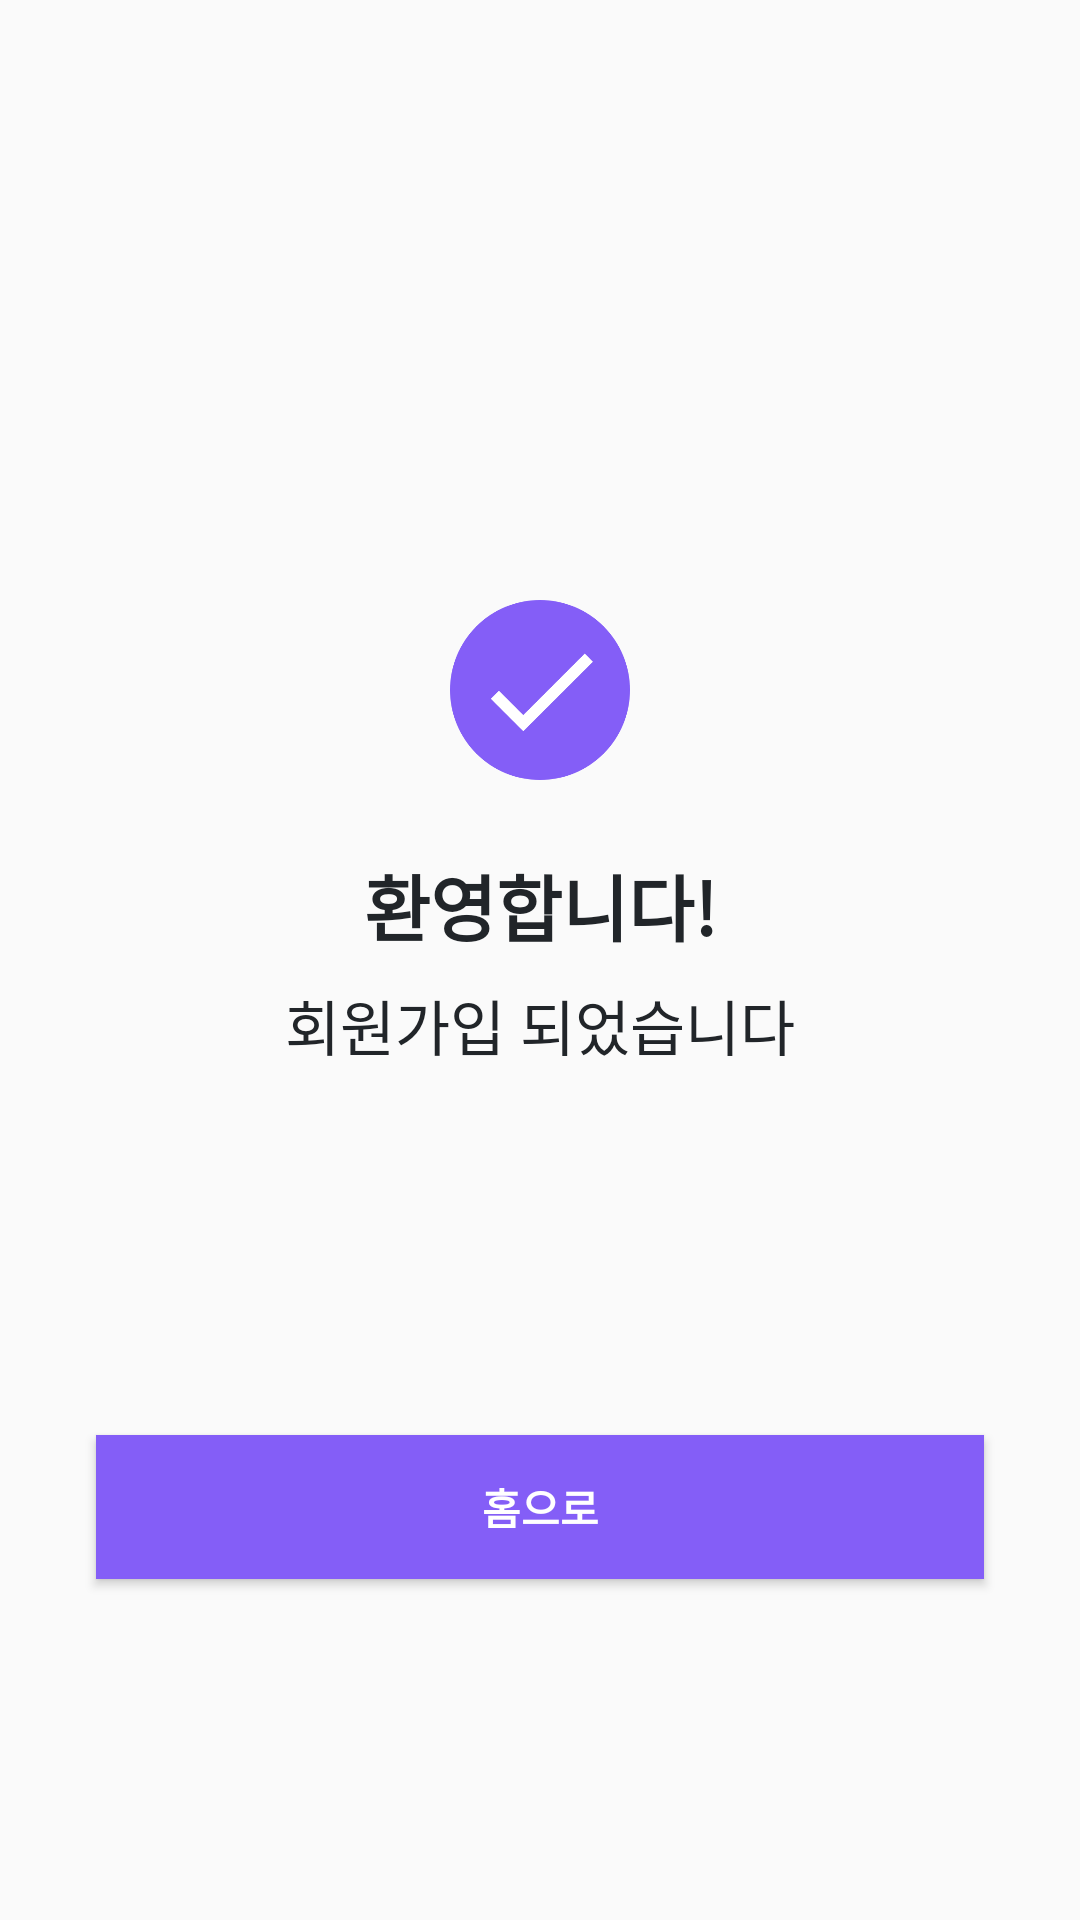

Icons on this 1080×1920 Android screen, each with the point to tap as [x,y]:
completed: [540,690]
